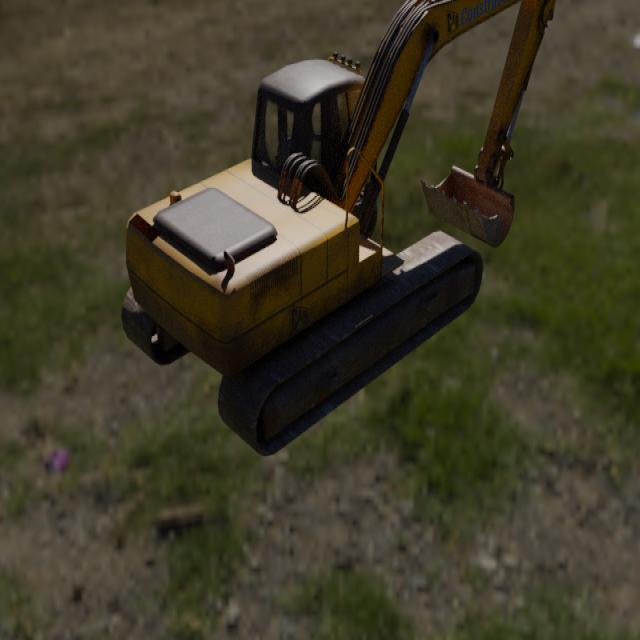excavator: (120, 0, 556, 457)
